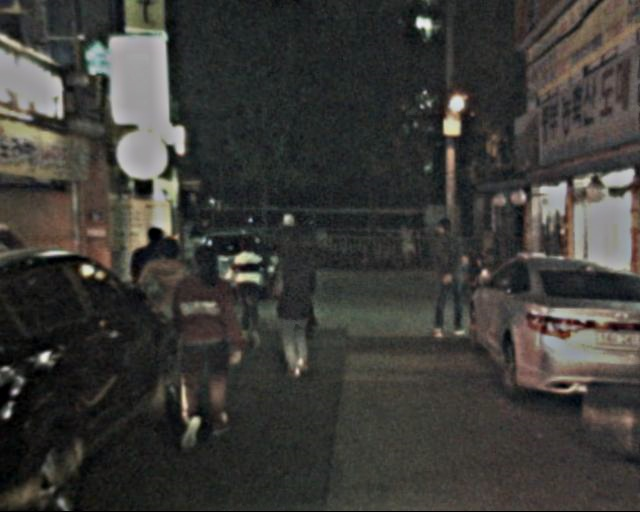person: (167, 250, 244, 437), (136, 234, 204, 383), (267, 236, 325, 378), (423, 215, 475, 346), (225, 237, 270, 348), (264, 211, 309, 316)
